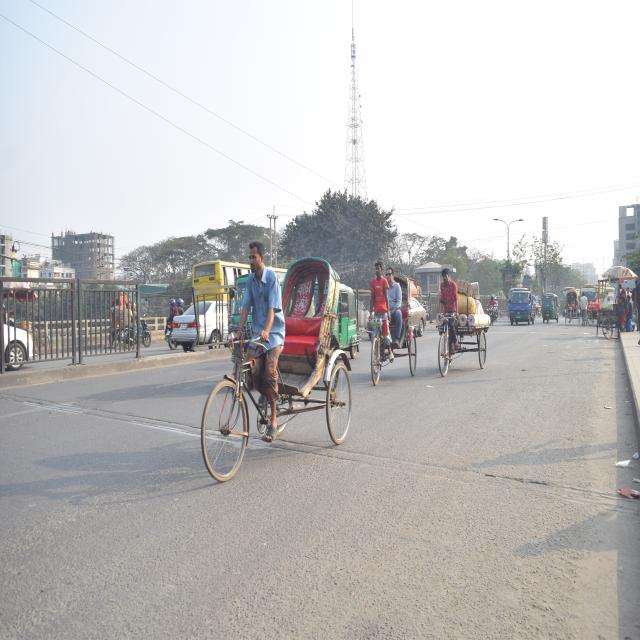bus: (579, 282, 602, 308)
car: (170, 296, 228, 358), (407, 289, 432, 345)
motorbike: (486, 292, 499, 330)
pickup-van: (507, 284, 538, 328)
